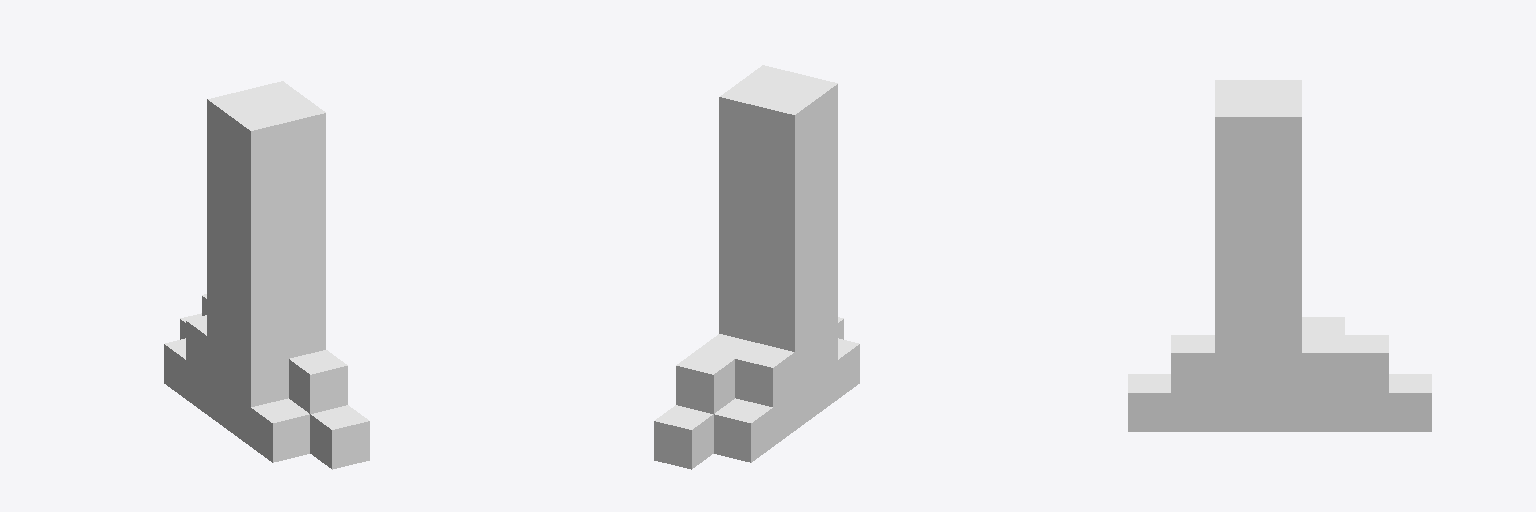
File: JAMBE-L.obj
3 renders of one model, left to right at view 1: azimuth 30°, elevation 25°; view 2: azimuth 150°, elevation 25°; view 3: azimuth 270°, elevation 25°, orthographic.
Parts seen in each view (by area): view 1: object 1; view 2: object 1; view 3: object 1.
Boxes of the visible parts, x1=… form: object 1: x1=164, y1=81, x2=369, y2=469; object 1: x1=654, y1=65, x2=859, y2=469; object 1: x1=1128, y1=80, x2=1431, y2=431.
Bounding box in the file's own units: 0.2 × 0.8 × 0.7.